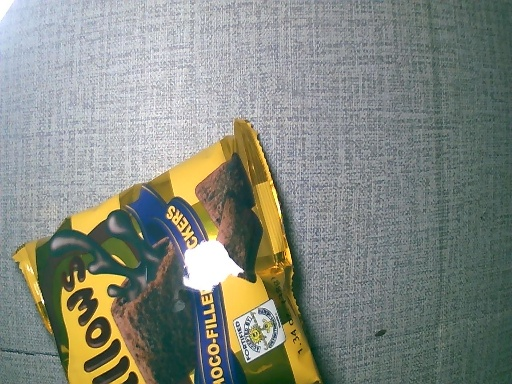plastic: (11, 118, 319, 384)
